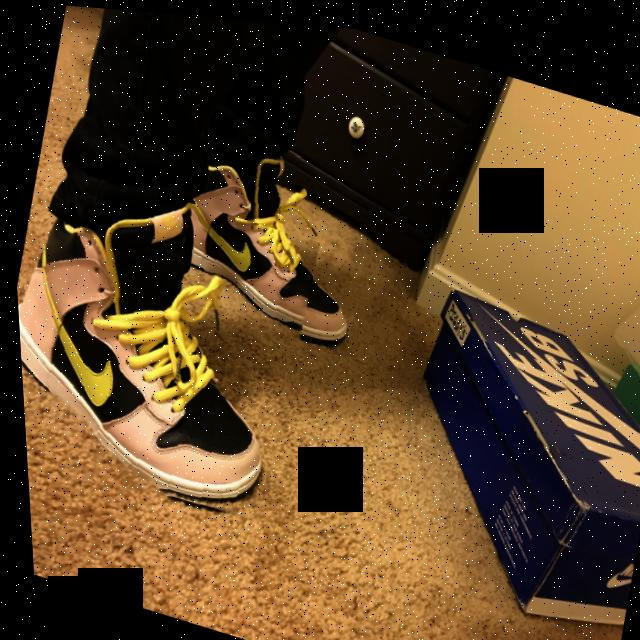shoe: (7, 154, 331, 532), (140, 114, 383, 358)
